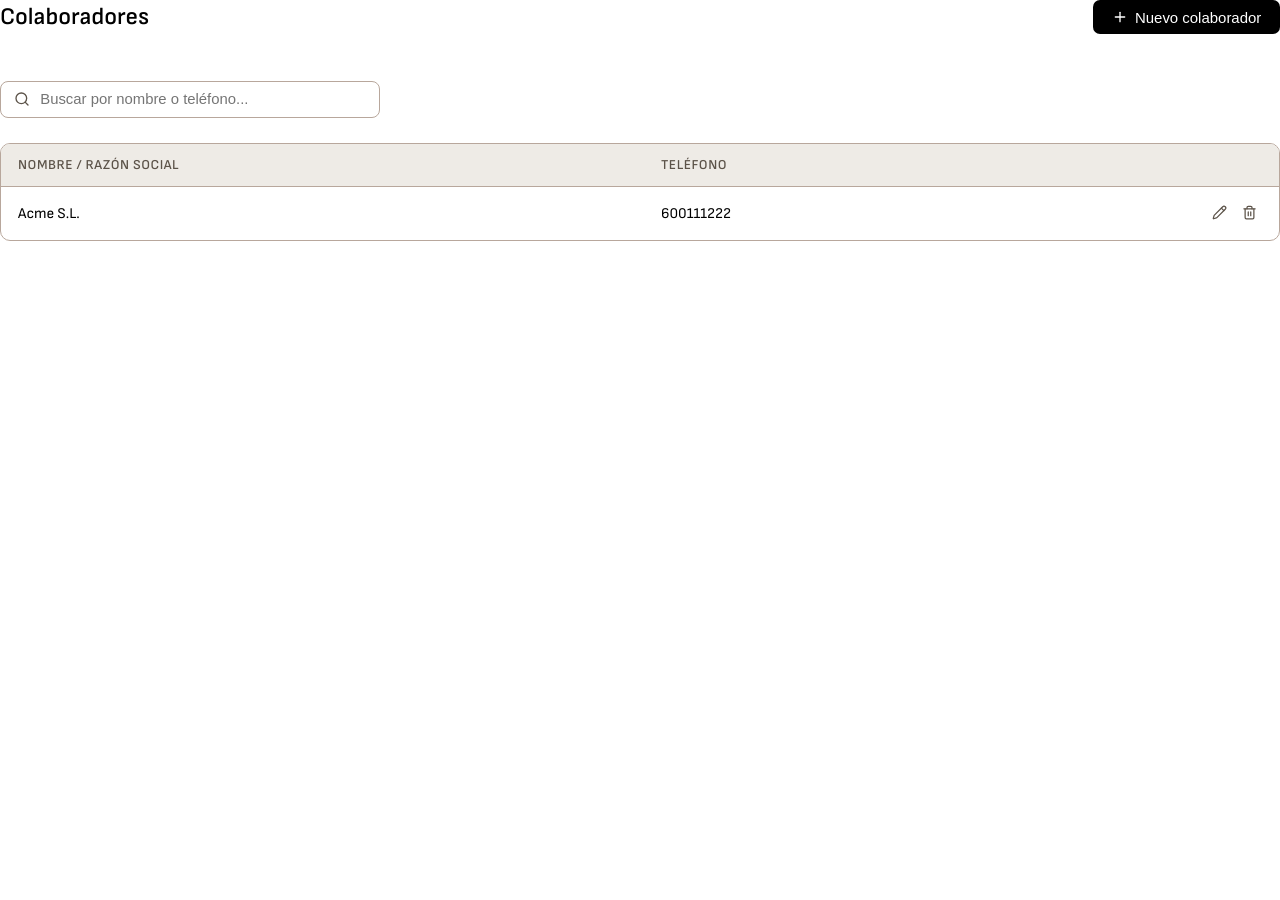
Collaborators › shows delete button only for OWNER and opens confirm modal
Expected: the text "Acme S.L." is shown, [1,186,644,240]
Click the button titled "eliminar": (1249, 214) [1237,200,1262,228]
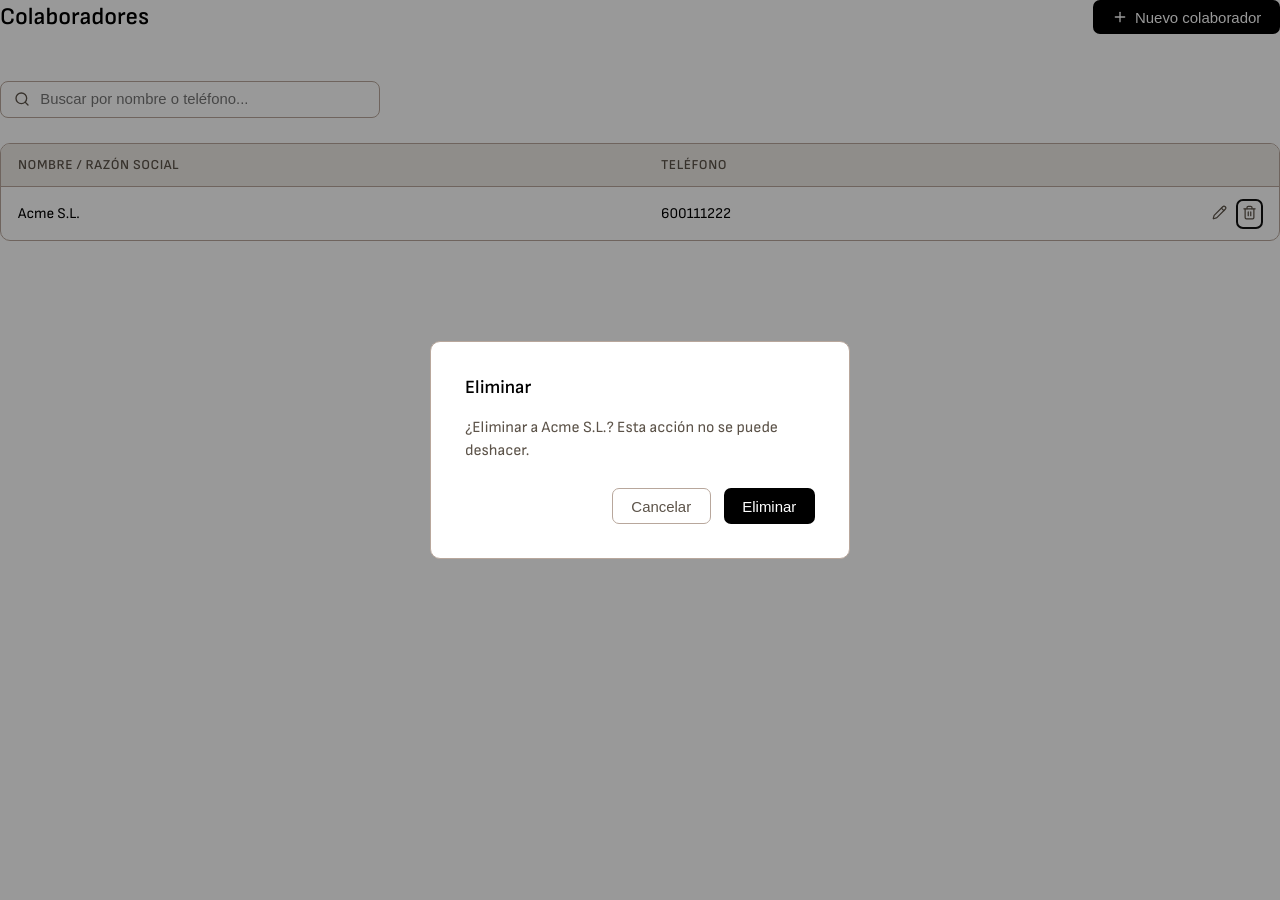
Expected: the dialog is shown, [430,341,850,559]
Expected: the text "¿Eliminar a Acme S.L.? Esta acción no se puede deshacer." is shown, [465,416,815,463]
